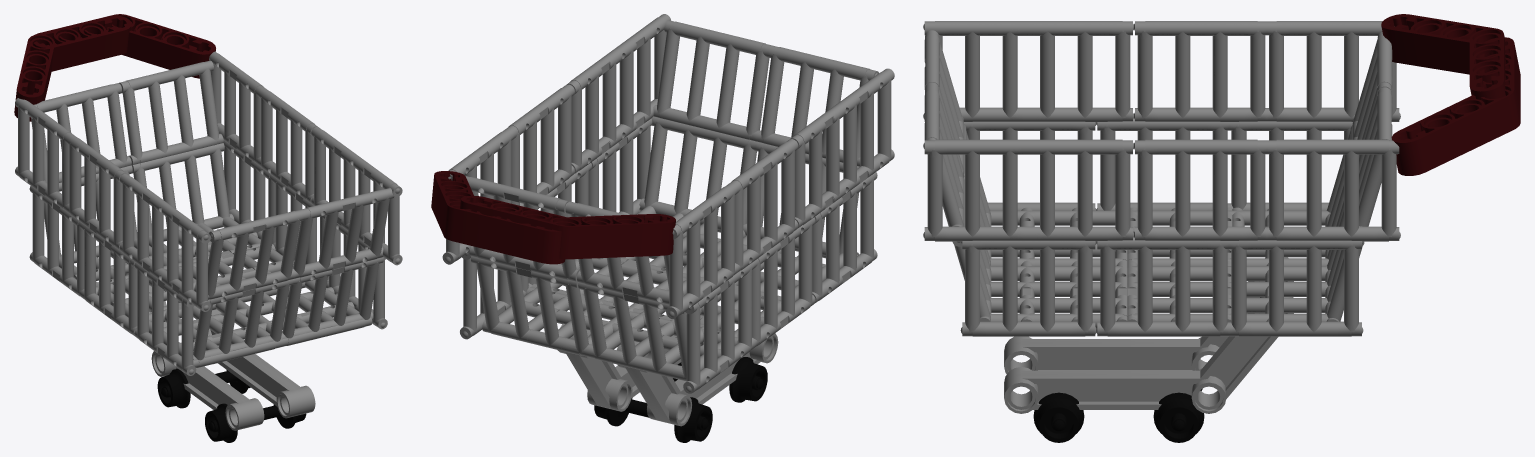
The model's file is ShoppingTrolley.dae.
3 views of the same model, side by side, from view 1: azimuth 30°, elevation 25°; view 2: azimuth 150°, elevation 25°; view 3: azimuth 270°, elevation 25° (orthographic). The views are drawn at different scales.
Parts seen in each view (by area): view 1: Part.27, Part.38, Part.23, Part.25, Part.29, Part.33, Part.30, Part.28, Part.15, Part.11, Part.16, Part.10 (+24 smaller); view 2: Part.23, Part.38, Part.28, Part.39, Part.10, Part.29, Part.34, Part.3, Part.16, Part.30, Part.15, Part.25 (+24 smaller); view 3: Part.1, Part.33, Part.29, Part.32, Part.5, Part.34, Part.14, Part.2, Part.30, Part.39, Part.0, Part.28 (+25 smaller).
Boxes of the visible parts, x1,y1,x2,y2 form: Part.27: (119,60,223,164); Part.38: (14,15,131,121); Part.23: (292,188,394,278); Part.25: (208,210,304,299); Part.29: (67,135,126,249); Part.33: (258,88,318,203); Part.30: (119,173,178,288); Part.28: (15,98,73,211); Part.15: (134,262,196,375); Part.11: (81,224,137,335); Part.16: (281,257,383,338); Part.10: (29,186,84,297); Part.23: (653,20,772,141); Part.38: (460,195,675,259); Part.28: (666,183,738,318); Part.39: (431,171,565,264); Part.10: (683,261,755,393); Part.29: (729,139,798,272); Part.34: (566,42,636,173); Part.3: (471,256,591,356); Part.16: (639,116,757,232); Part.30: (790,96,860,227); Part.15: (812,172,877,303); Part.25: (756,45,878,166); Part.1: (1004,297,1293,413); Part.33: (1134,139,1267,240); Part.29: (1134,21,1267,121); Part.32: (1266,139,1400,241); Part.5: (1096,237,1230,336); Part.34: (1002,139,1133,241); Part.14: (960,240,1096,336); Part.2: (1228,240,1363,336); Part.30: (1002,21,1133,122); Part.39: (1391,37,1520,175); Part.0: (1004,257,1293,374); Part.28: (1266,21,1400,121).
Size of the model in its own units: 63.67 by 84.55 by 127.
